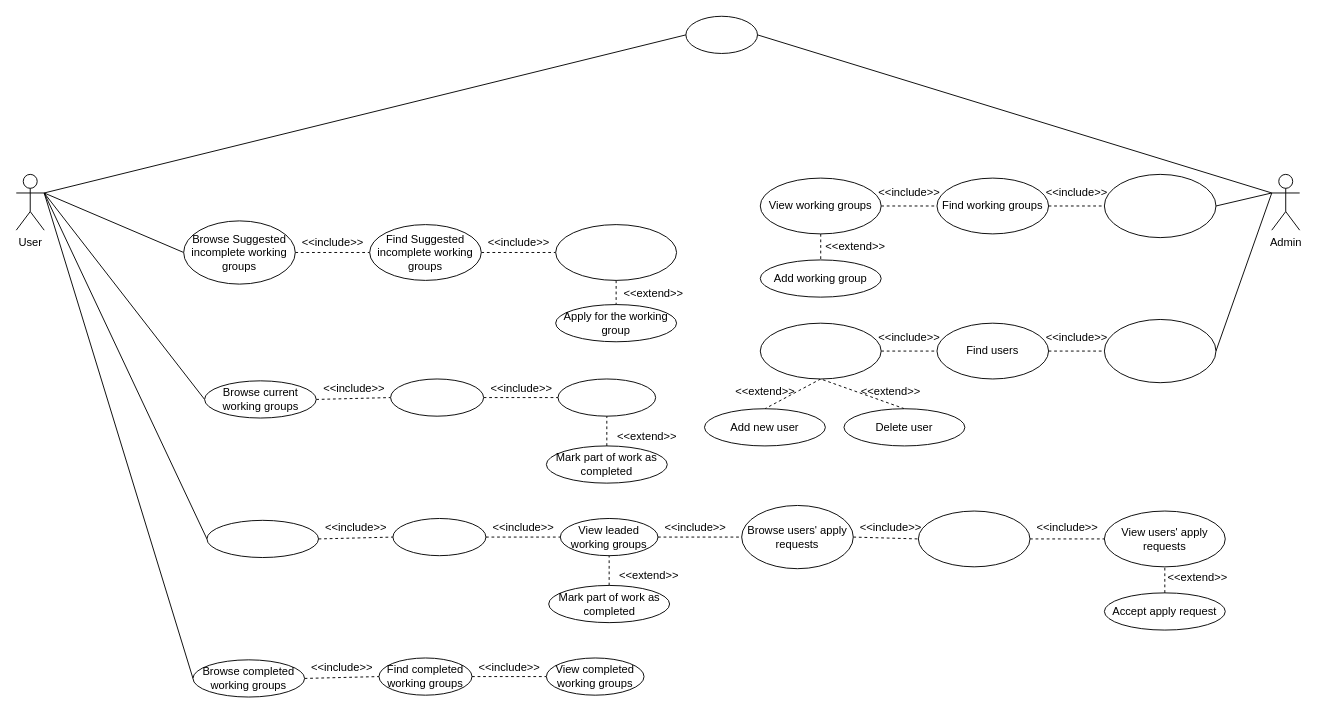
This 1318x713 diagram has some shape labels left out. Here are the shapes that lost their labels. From the top down, the centre of each, then its label:
At (721,34): "Log in".
At (1159,205): "Browse working groups".
At (616,252): "View Suggested incomplete working groups".
At (820,350): "View users".
At (1159,351): "Browse users".
At (437,397): "Find current working groups".
At (606,397): "View current working groups".
At (262,538): "Browse leaded working groups".
At (439,537): "Find leaded working groups".
At (973,538): "Find users' apply requests".
